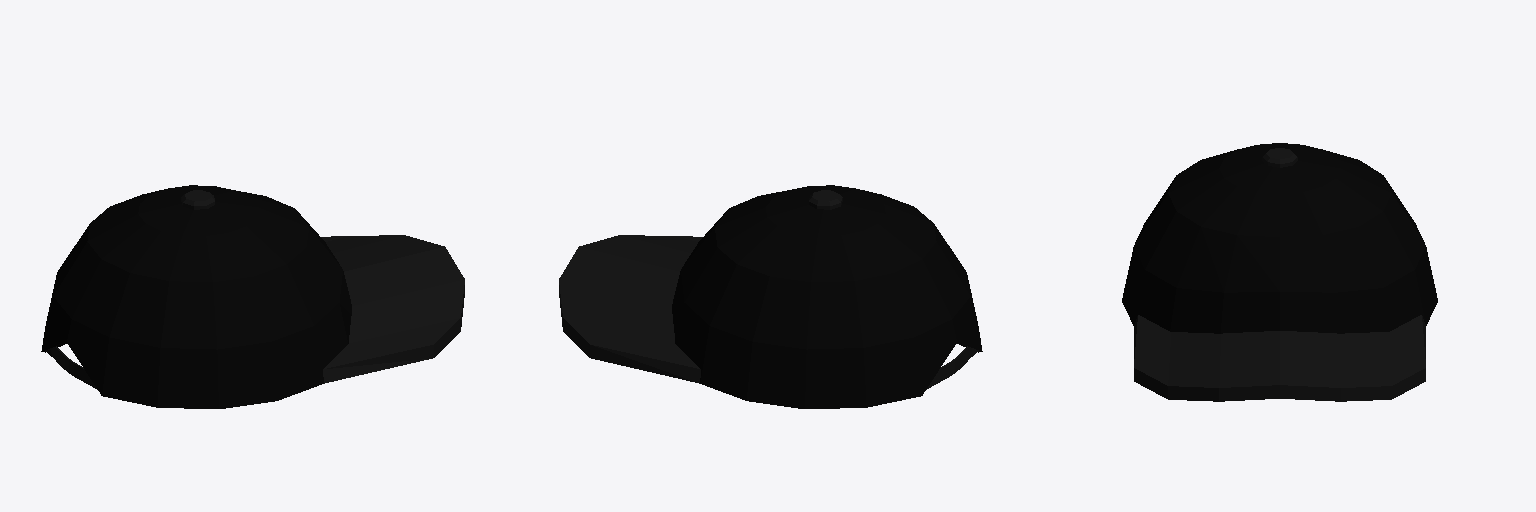
File: Cap.obj
The picture shows the model from 3 angles: view 1: azimuth 30°, elevation 25°; view 2: azimuth 150°, elevation 25°; view 3: azimuth 270°, elevation 25°; orthographic projection.
Parts seen in each view (by area): view 1: CapDark_Sphere; view 2: CapDark_Sphere; view 3: CapDark_Sphere.
Boxes of the visible parts, x1=… form: CapDark_Sphere: x1=41, y1=185, x2=464, y2=408; CapDark_Sphere: x1=559, y1=185, x2=982, y2=408; CapDark_Sphere: x1=1122, y1=143, x2=1437, y2=401.
Size of the model in its own units: 0.7179 by 0.2695 by 0.52.